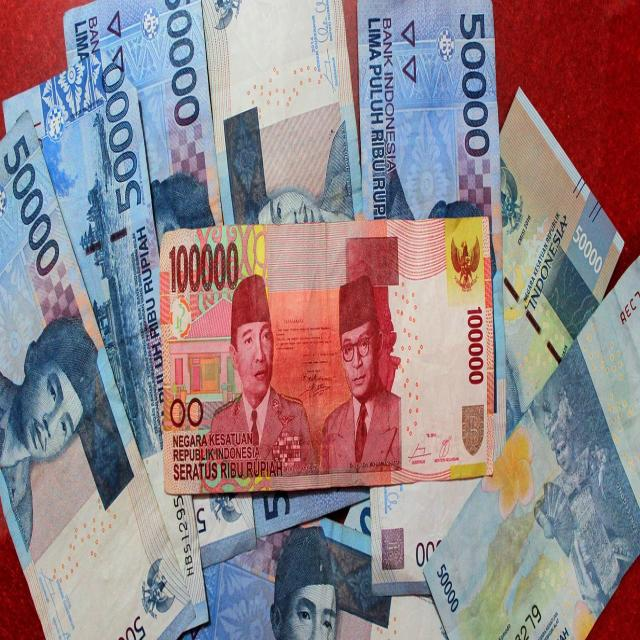lima puluh ribu rupiah: (2, 49, 209, 634), (0, 109, 196, 640), (362, 0, 506, 597), (422, 255, 640, 640)
seratus ribu rupiah: (160, 216, 494, 494)
